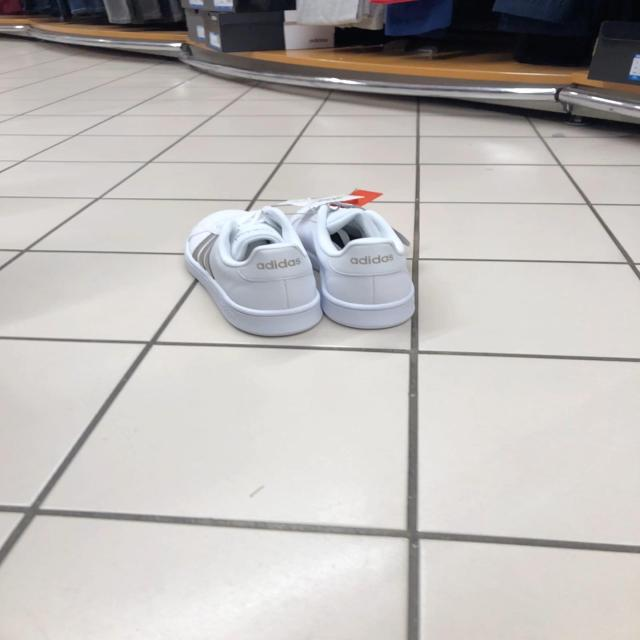shoe: (188, 206, 315, 331), (305, 195, 410, 327)
